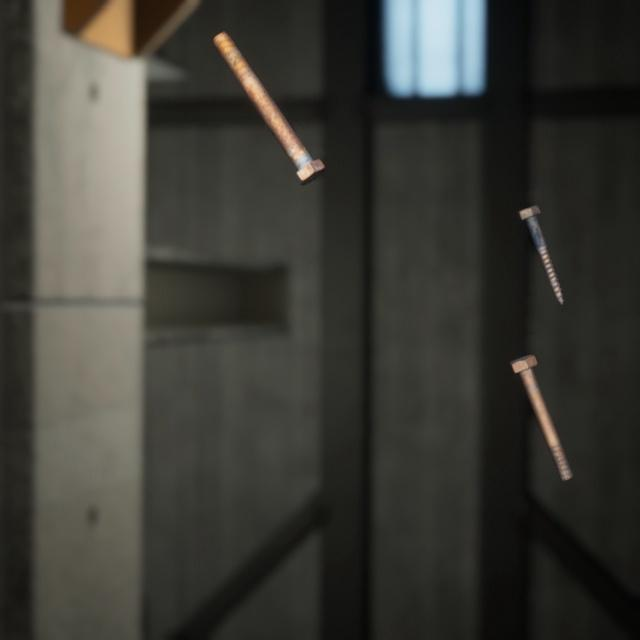bolt: (208, 15, 329, 177), (504, 330, 577, 465), (512, 184, 568, 293)
